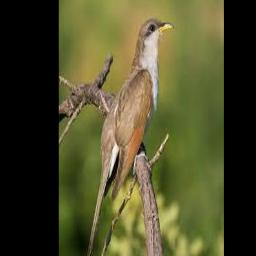Cuckoo: (86, 19, 174, 256)
